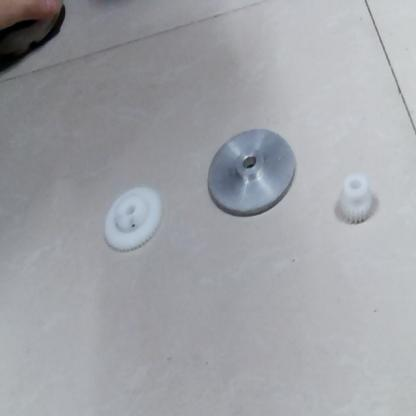FOD: (203, 129, 301, 219), (94, 181, 166, 260), (329, 173, 378, 227)
